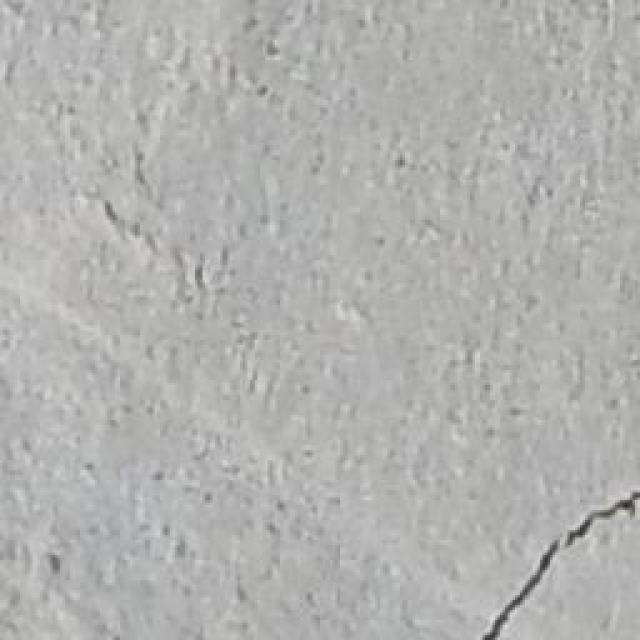concrete-crack: (478, 484, 638, 638)
